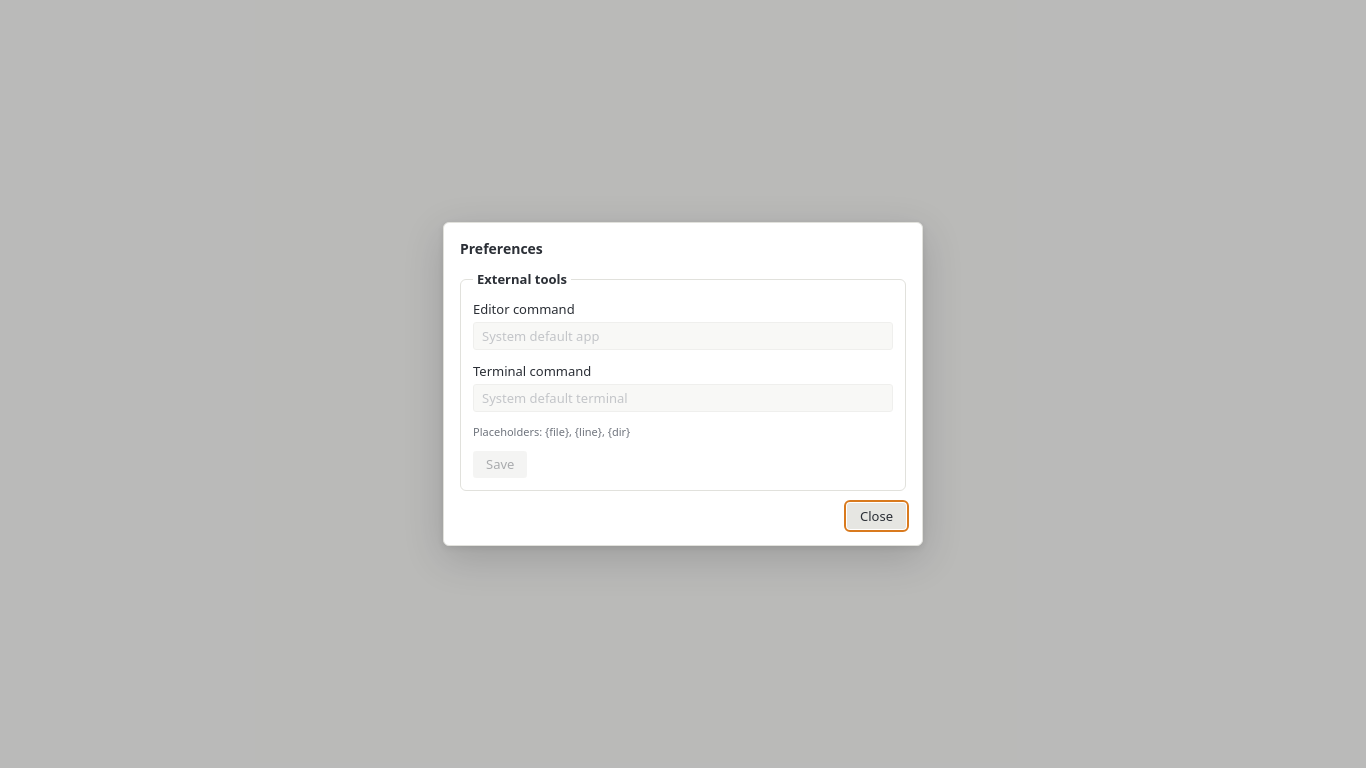
Test case: PreferencesDialog › shows a failed save
Type "code" into the field labelled "Editor command" at [683, 336], box [473,322,893,350]
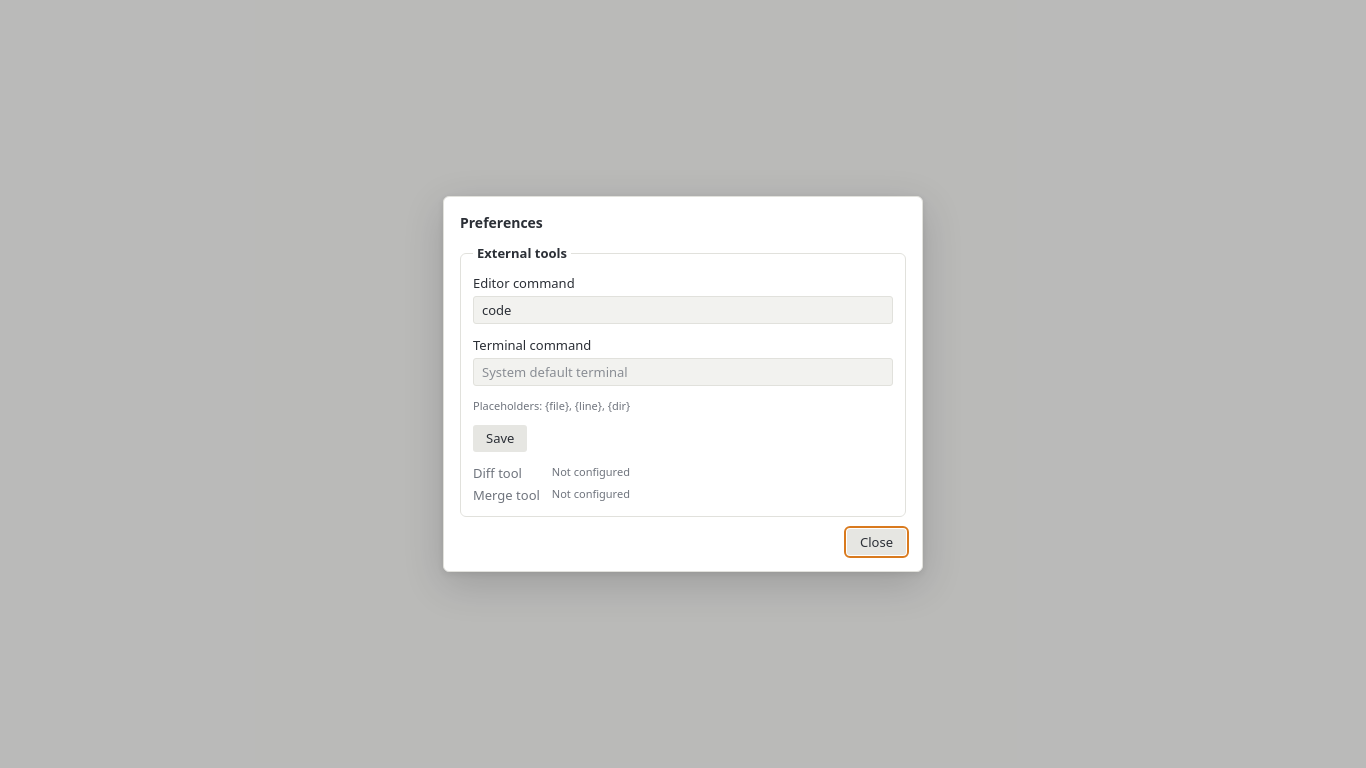
Click the button "Save" at [500, 438], box [473,425,527,452]
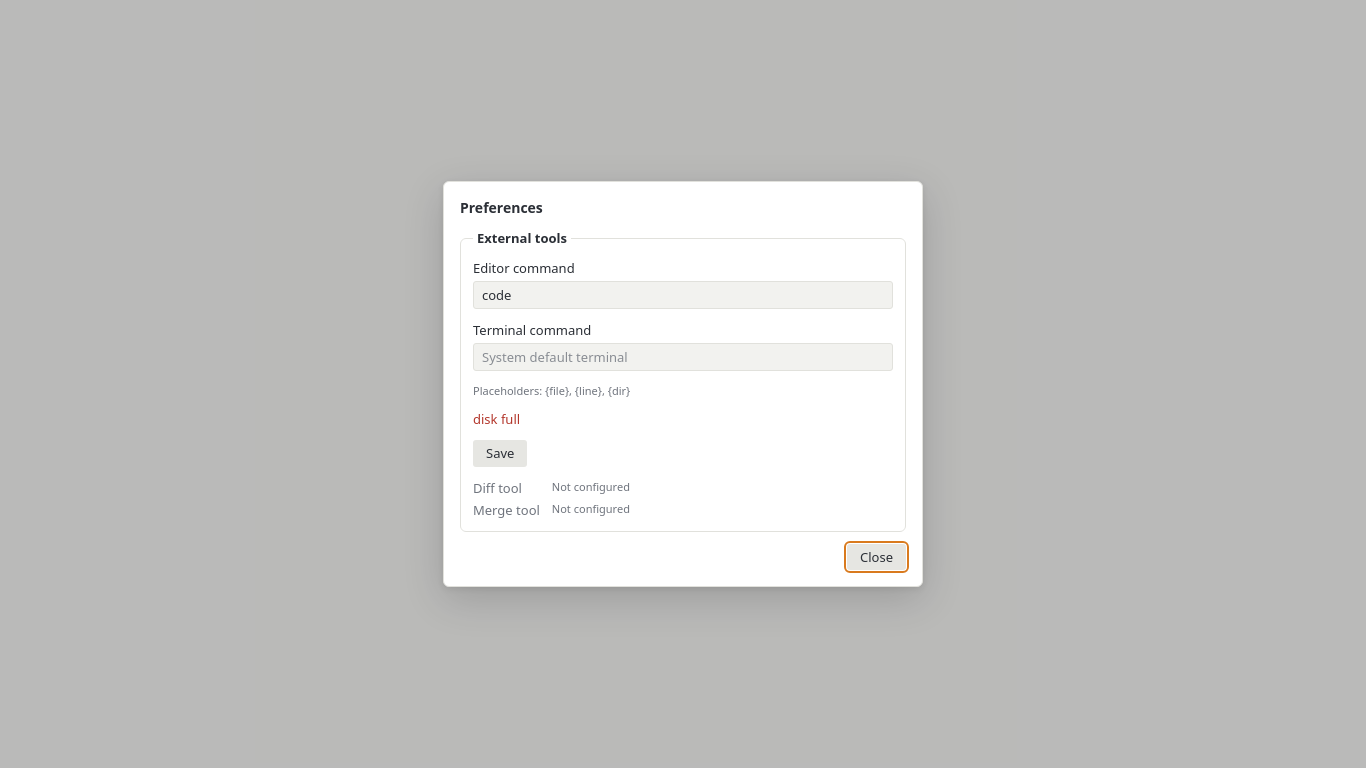
Now the text "disk full" is shown, box [473,410,520,428]
